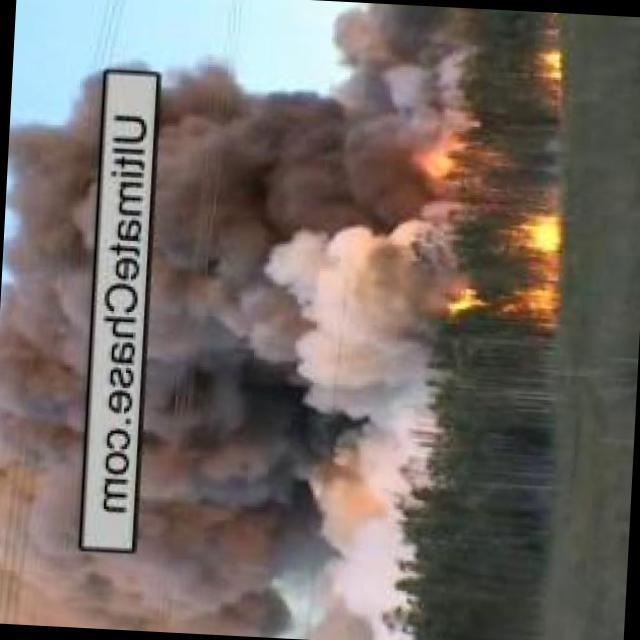Fire: (443, 218, 566, 328), (398, 131, 467, 197), (532, 44, 566, 88)
